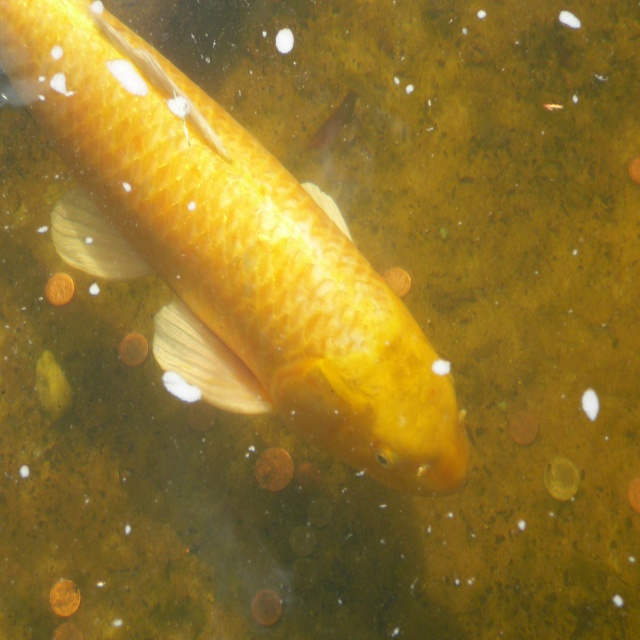Fish: (0, 0, 470, 498)
